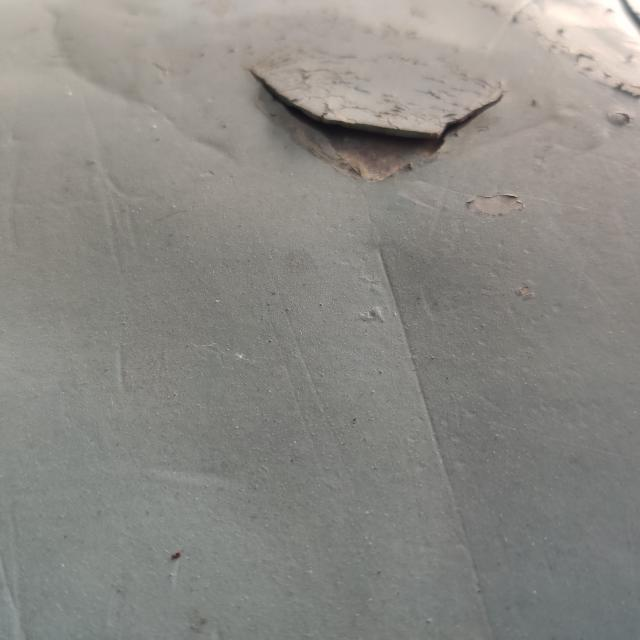crack: (235, 37, 518, 199)
